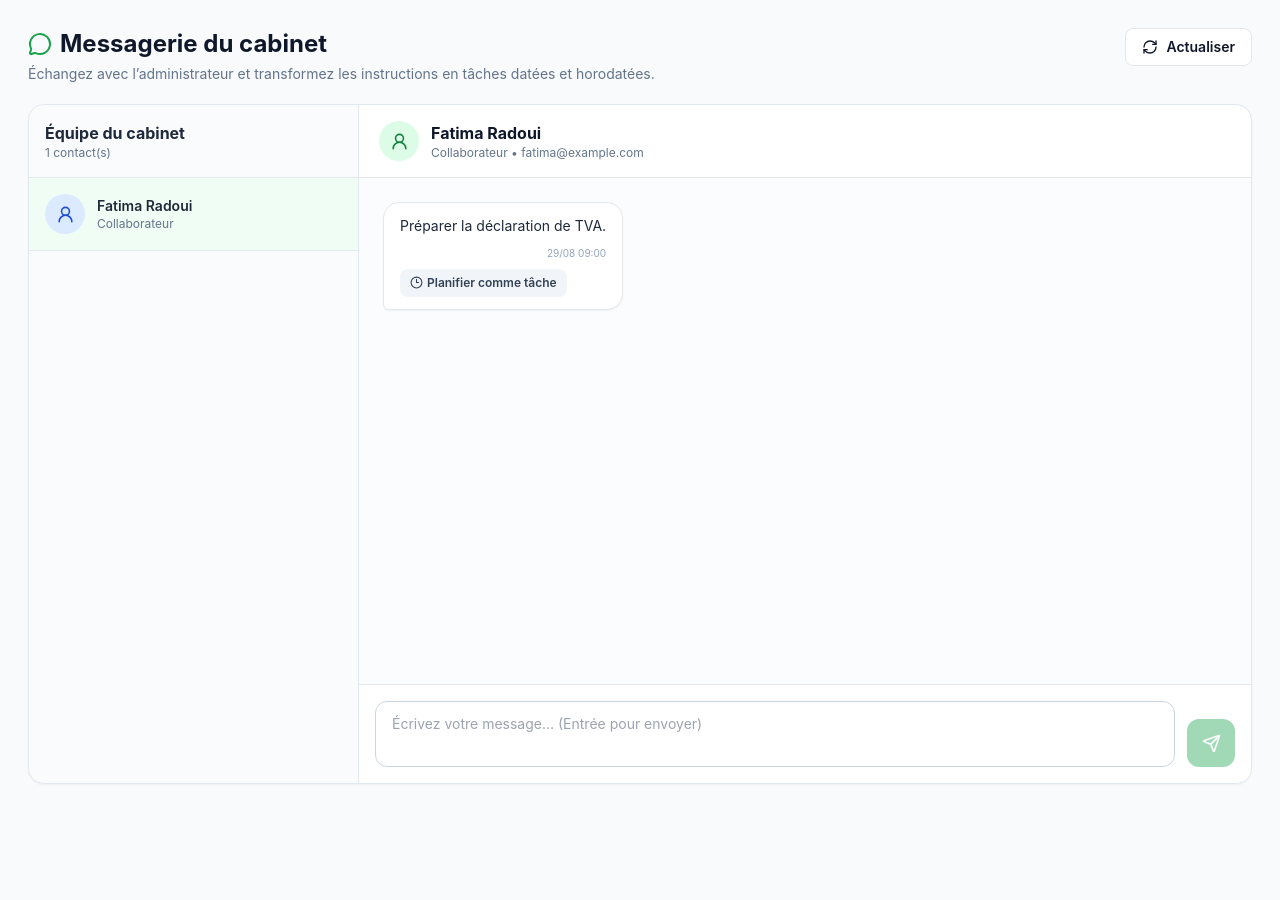
Scenario: MessagesPage › convertit un message en tâche avec une date et une heure
Expected: the text "Préparer la déclaration de TVA." is shown, 400,215 -> 606,238
Click the button "Planifier comme tâche".
click(483, 283)  # box 400,269 -> 567,297
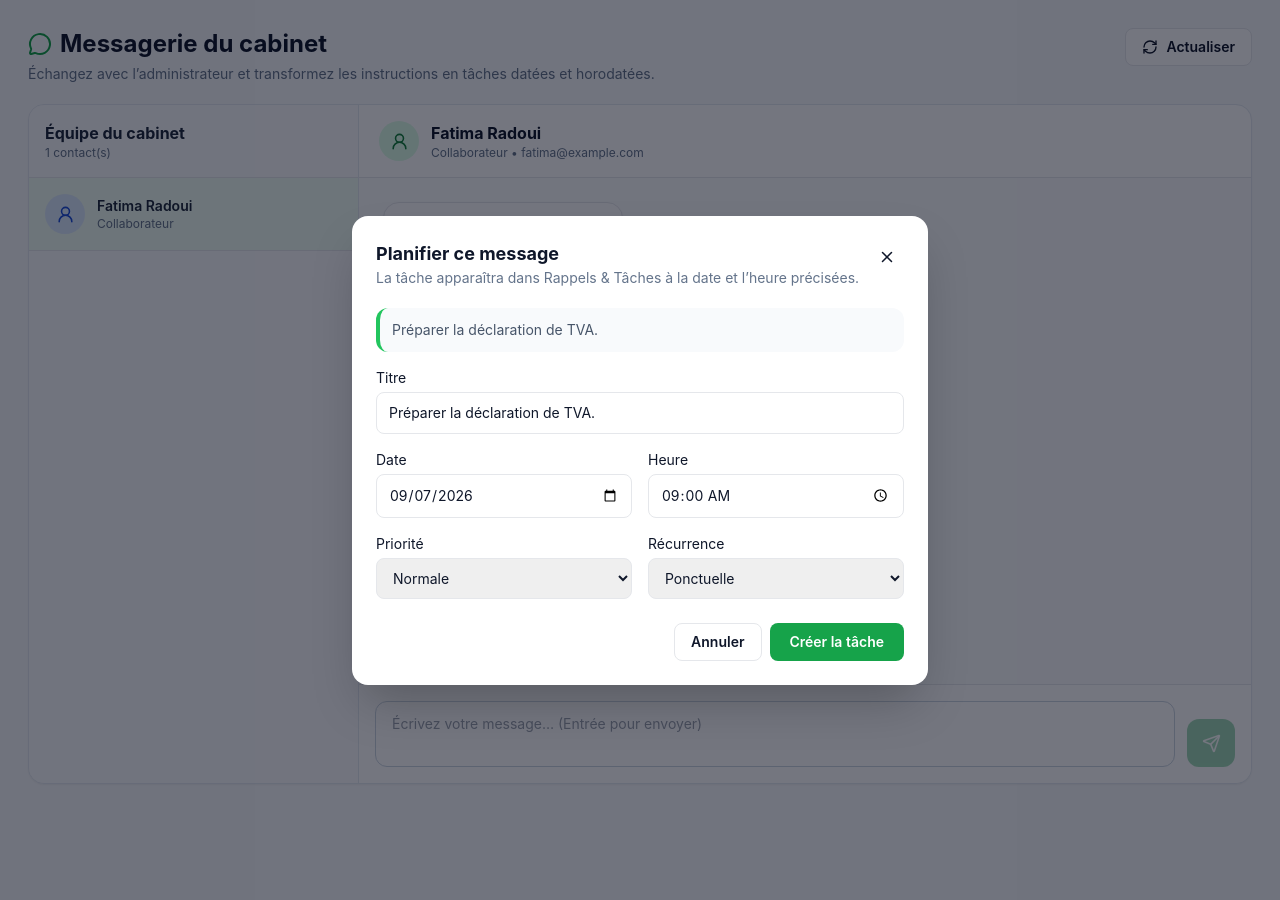
Type "2026-09-01" into the date field labelled "Date".
click(504, 496); type("2026-09-01")  # box 376,474 -> 632,518
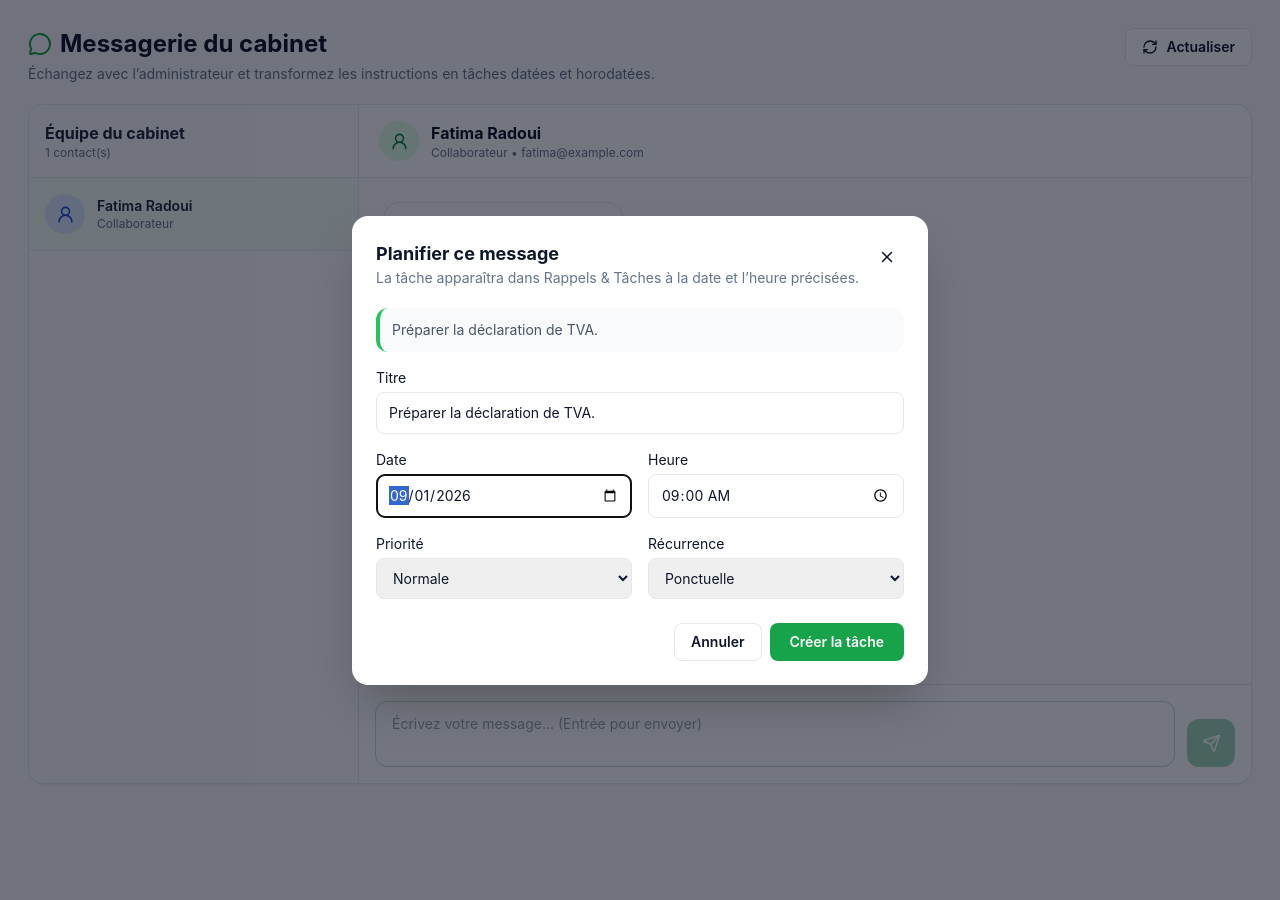
Replace the text in the time field labelled "Heure" with "14:30" at (776, 496), box 648,474 -> 904,518
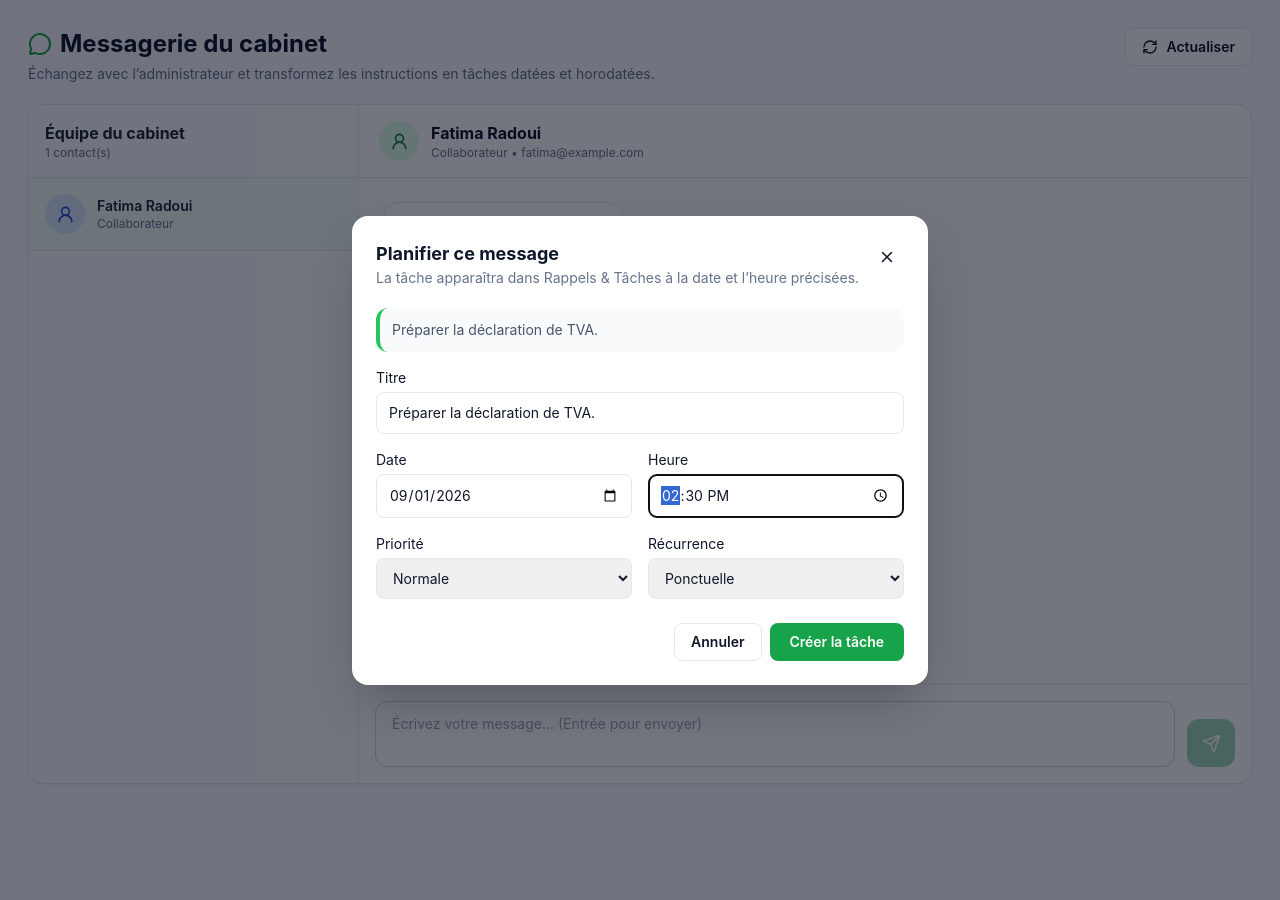
Click the button "Créer la tâche".
click(837, 642)  # box 770,622 -> 904,660
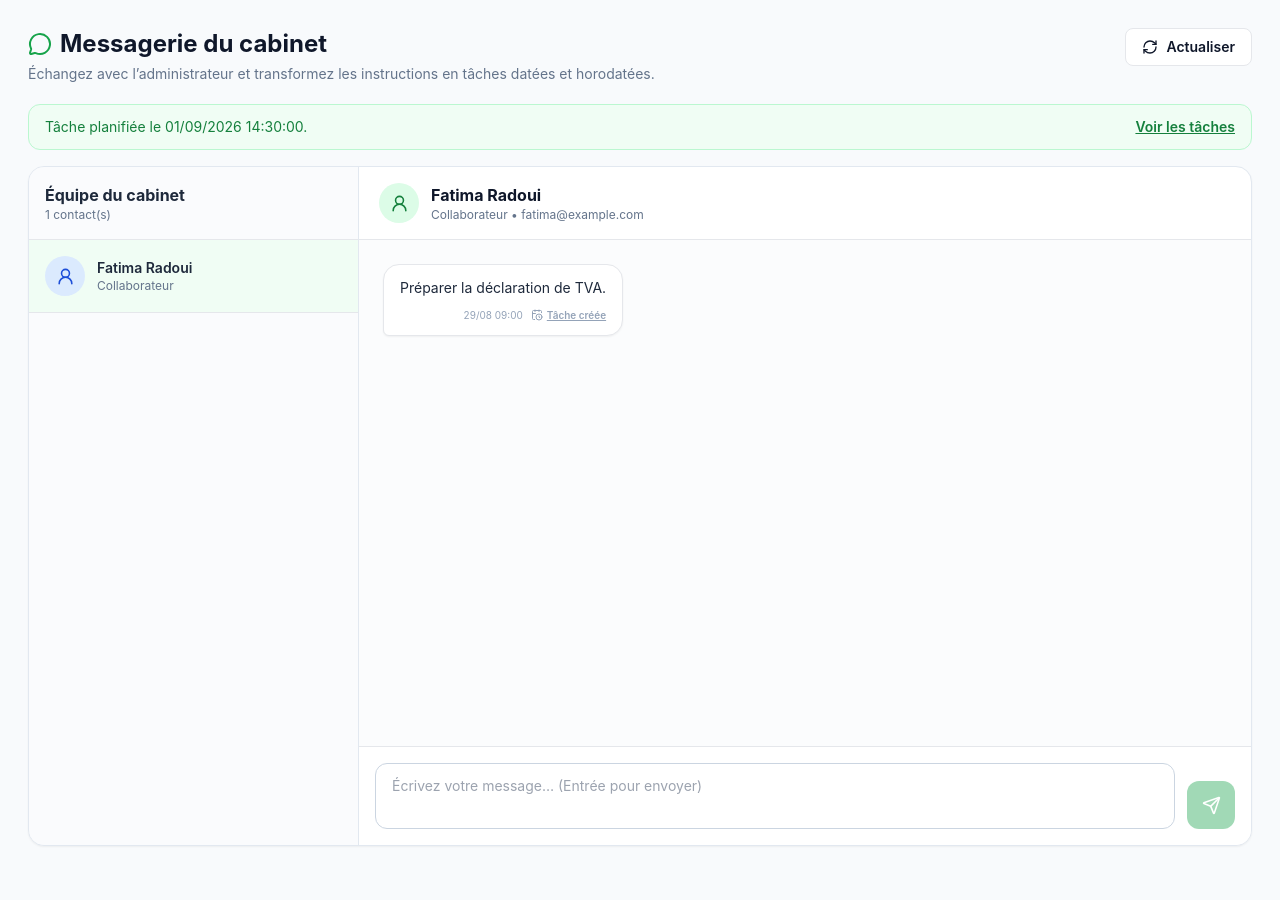
Now the text "Tâche planifiée le 01/09/2026 14:30:00." is shown, box 45,117 -> 307,137
